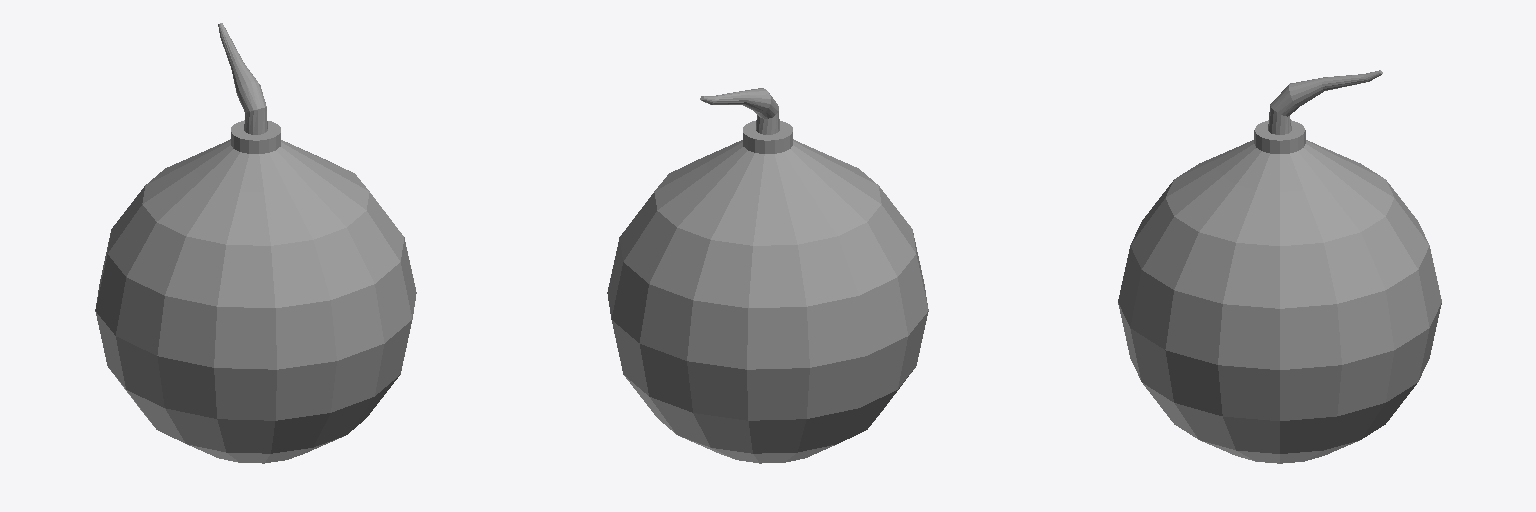
Rendered from bomb.obj.
3 views of the same model, side by side, from view 1: azimuth 30°, elevation 25°; view 2: azimuth 150°, elevation 25°; view 3: azimuth 270°, elevation 25° (orthographic).
Parts seen in each view (by area): view 1: Sphere; view 2: Sphere; view 3: Sphere.
Part boxes in pixels (left/top/right/bottom): Sphere: left=95, top=23, right=416, bottom=463; Sphere: left=607, top=88, right=928, bottom=463; Sphere: left=1118, top=70, right=1441, bottom=463.
Bounding box in the file's own units: 0.5657 × 0.7422 × 0.5657.